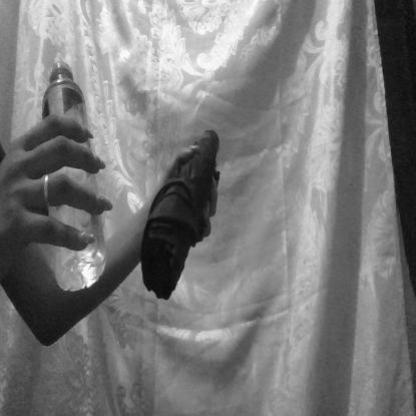Plastic Bottle: (28, 41, 115, 314)
